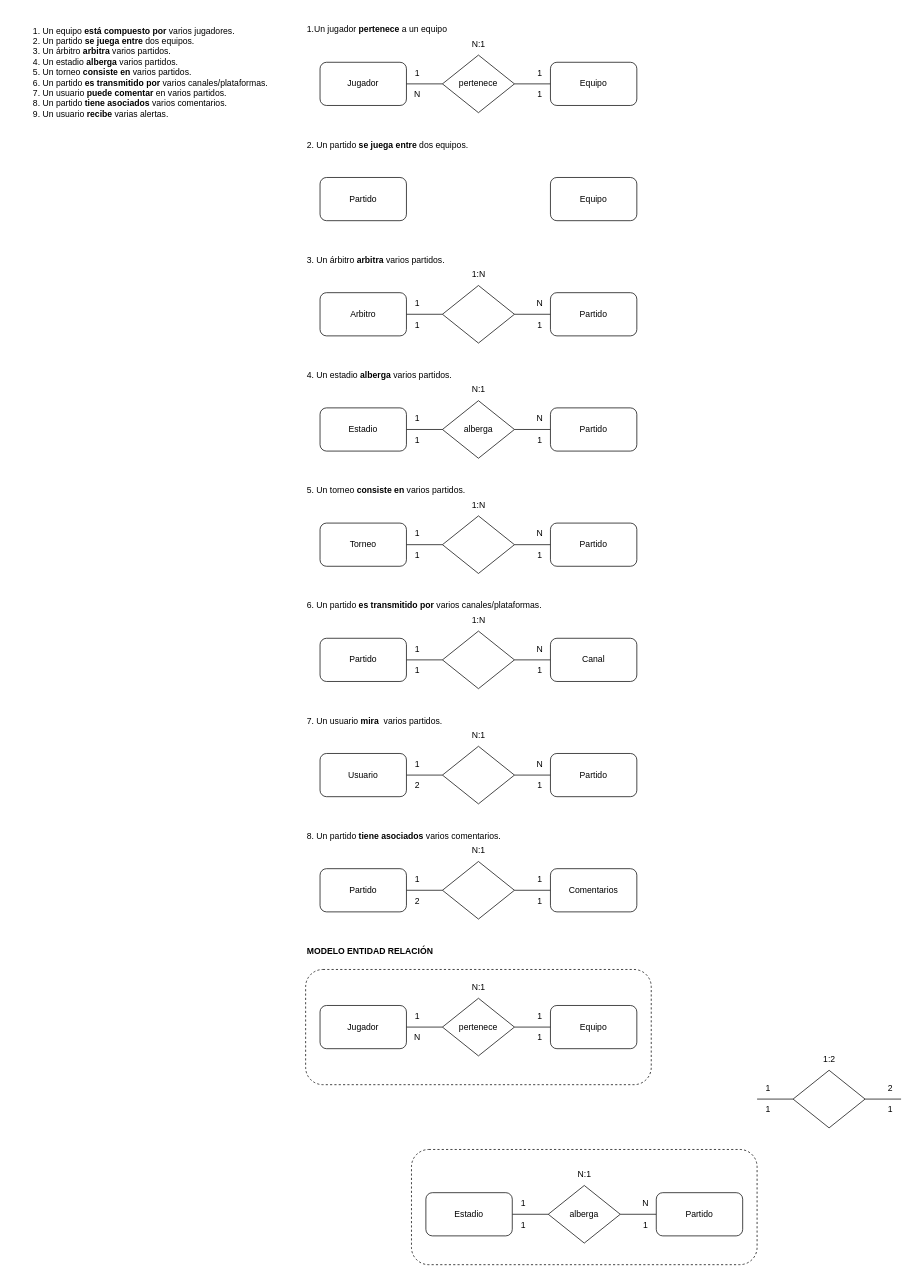
Image size: 914x1277. Some labels were removed from this diagram. The centre of each missing label's shape, as x and y in pixels:
arbitra: the point at 478,314
comenta: the point at 478,775
consiste: the point at 478,544
juega: the point at 828,1099
tiene: the point at 478,890
transmite: the point at 478,659
